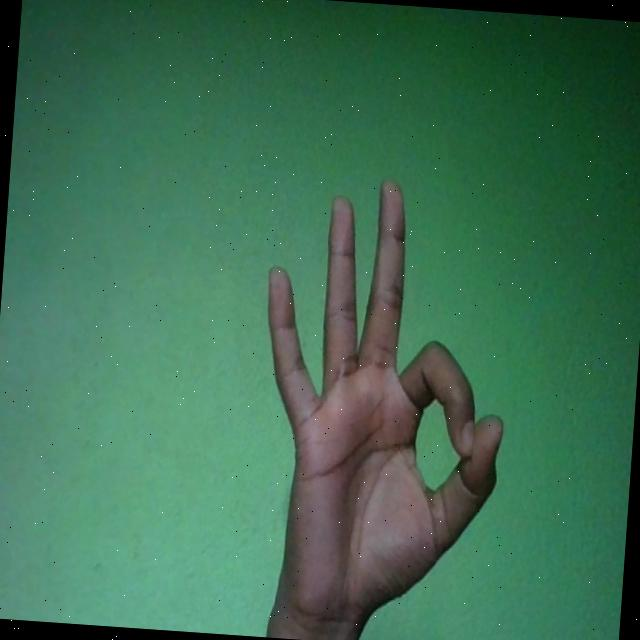Rock On: (242, 167, 520, 640)
